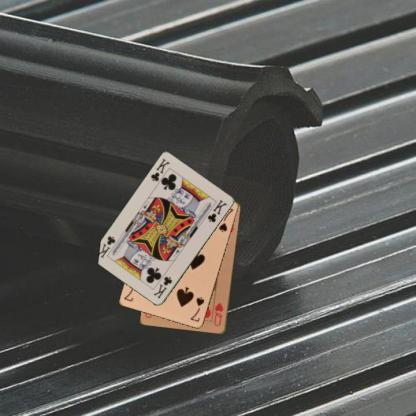7s: (188, 295, 206, 323)
Kc: (148, 156, 172, 183), (151, 274, 173, 300)
Qh: (211, 300, 225, 327)
